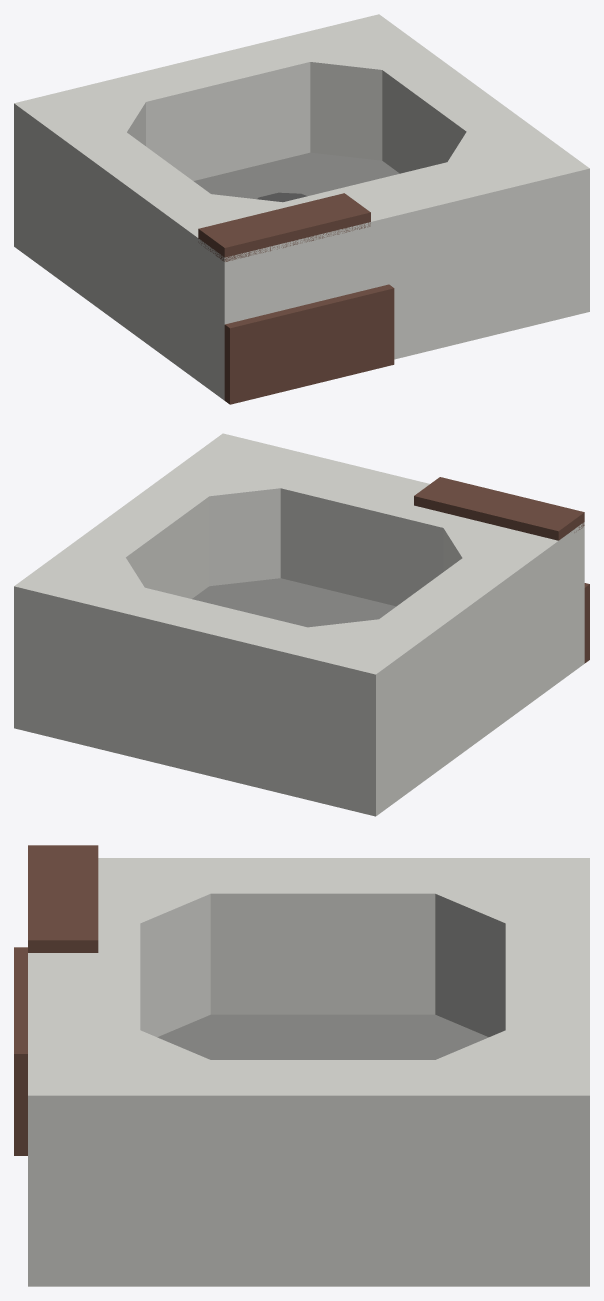
File: junk_kitchen_sink.obj
The picture shows the model from 3 angles, top to bottom: view 1: azimuth 30°, elevation 25°; view 2: azimuth 150°, elevation 25°; view 3: azimuth 270°, elevation 25°; orthographic projection. The views are drawn at different scales.
Visible parts, largest first — view 1: junk_kitchen_sink_8, junk_kitchen_sink_5, junk_kitchen_sink_2, junk_kitchen_sink_15, junk_kitchen_sink_11, junk_kitchen_sink_6, junk_kitchen_sink_9, junk_kitchen_sink_4, junk_kitchen_sink_14, junk_kitchen_sink_12, junk_kitchen_sink_1, junk_kitchen_sink_0 (+3 smaller); view 2: junk_kitchen_sink_2, junk_kitchen_sink_5, junk_kitchen_sink_8, junk_kitchen_sink_1, junk_kitchen_sink_3, junk_kitchen_sink_11, junk_kitchen_sink_6, junk_kitchen_sink_10, junk_kitchen_sink_4, junk_kitchen_sink_12, junk_kitchen_sink_14, junk_kitchen_sink_9 (+2 smaller); view 3: junk_kitchen_sink_11, junk_kitchen_sink_5, junk_kitchen_sink_10, junk_kitchen_sink_0, junk_kitchen_sink_12, junk_kitchen_sink_8, junk_kitchen_sink_2, junk_kitchen_sink_6, junk_kitchen_sink_4, junk_kitchen_sink_3, junk_kitchen_sink_14, junk_kitchen_sink_1 (+3 smaller).
Boxes of the visible parts, box(x1,y1,x2,y2) form: junk_kitchen_sink_8: box(270, 162, 544, 359); junk_kitchen_sink_5: box(51, 131, 210, 361); junk_kitchen_sink_2: box(80, 30, 313, 180); junk_kitchen_sink_15: box(224, 284, 394, 404); junk_kitchen_sink_11: box(382, 42, 536, 173); junk_kitchen_sink_6: box(172, 194, 260, 400); junk_kitchen_sink_9: box(447, 153, 589, 322); junk_kitchen_sink_4: box(14, 103, 136, 273); junk_kitchen_sink_14: box(198, 193, 370, 261); junk_kitchen_sink_12: box(193, 152, 399, 199); junk_kitchen_sink_1: box(310, 14, 378, 156); junk_kitchen_sink_0: box(346, 14, 416, 160); junk_kitchen_sink_2: box(78, 587, 311, 800); junk_kitchen_sink_5: box(379, 558, 532, 788); junk_kitchen_sink_8: box(268, 444, 478, 606); junk_kitchen_sink_1: box(14, 572, 144, 743); junk_kitchen_sink_3: box(307, 623, 375, 816); junk_kitchen_sink_11: box(52, 471, 209, 598); junk_kitchen_sink_6: box(449, 522, 584, 701); junk_kitchen_sink_10: box(171, 433, 259, 586); junk_kitchen_sink_4: box(343, 619, 413, 815); junk_kitchen_sink_12: box(192, 578, 396, 627); junk_kitchen_sink_14: box(414, 477, 584, 540); junk_kitchen_sink_9: box(223, 433, 280, 580); junk_kitchen_sink_11: box(168, 1060, 489, 1286); junk_kitchen_sink_5: box(169, 858, 489, 1014); junk_kitchen_sink_10: box(28, 1039, 209, 1286); junk_kitchen_sink_0: box(436, 1045, 589, 1286); junk_kitchen_sink_12: box(157, 1014, 488, 1059); junk_kitchen_sink_8: box(28, 910, 140, 1065); junk_kitchen_sink_2: box(505, 900, 589, 1052); junk_kitchen_sink_6: box(98, 858, 210, 1034); junk_kitchen_sink_4: box(435, 858, 589, 1029); junk_kitchen_sink_3: box(470, 858, 589, 1036); junk_kitchen_sink_14: box(28, 845, 98, 952); junk_kitchen_sink_1: box(471, 1030, 589, 1095).
Bounding box in the file's own units: 0.8 × 0.32 × 0.82.
